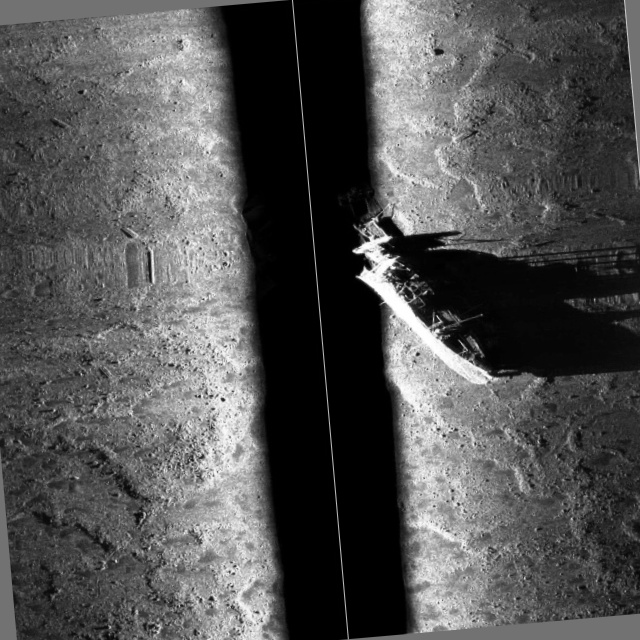Shipwreck: (82, 128, 519, 419)
